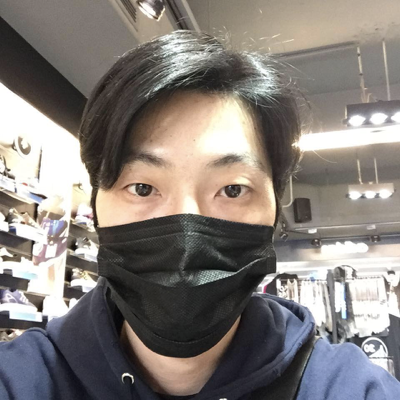with_mask: (95, 145, 279, 356)
